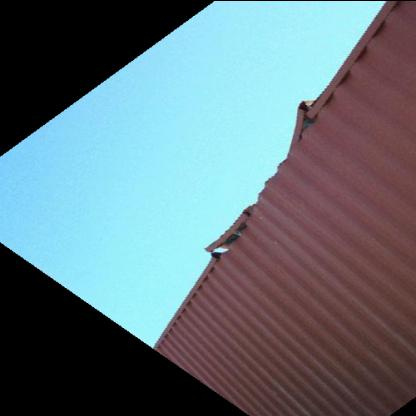Damage: (278, 73, 328, 175), (201, 197, 272, 262)
